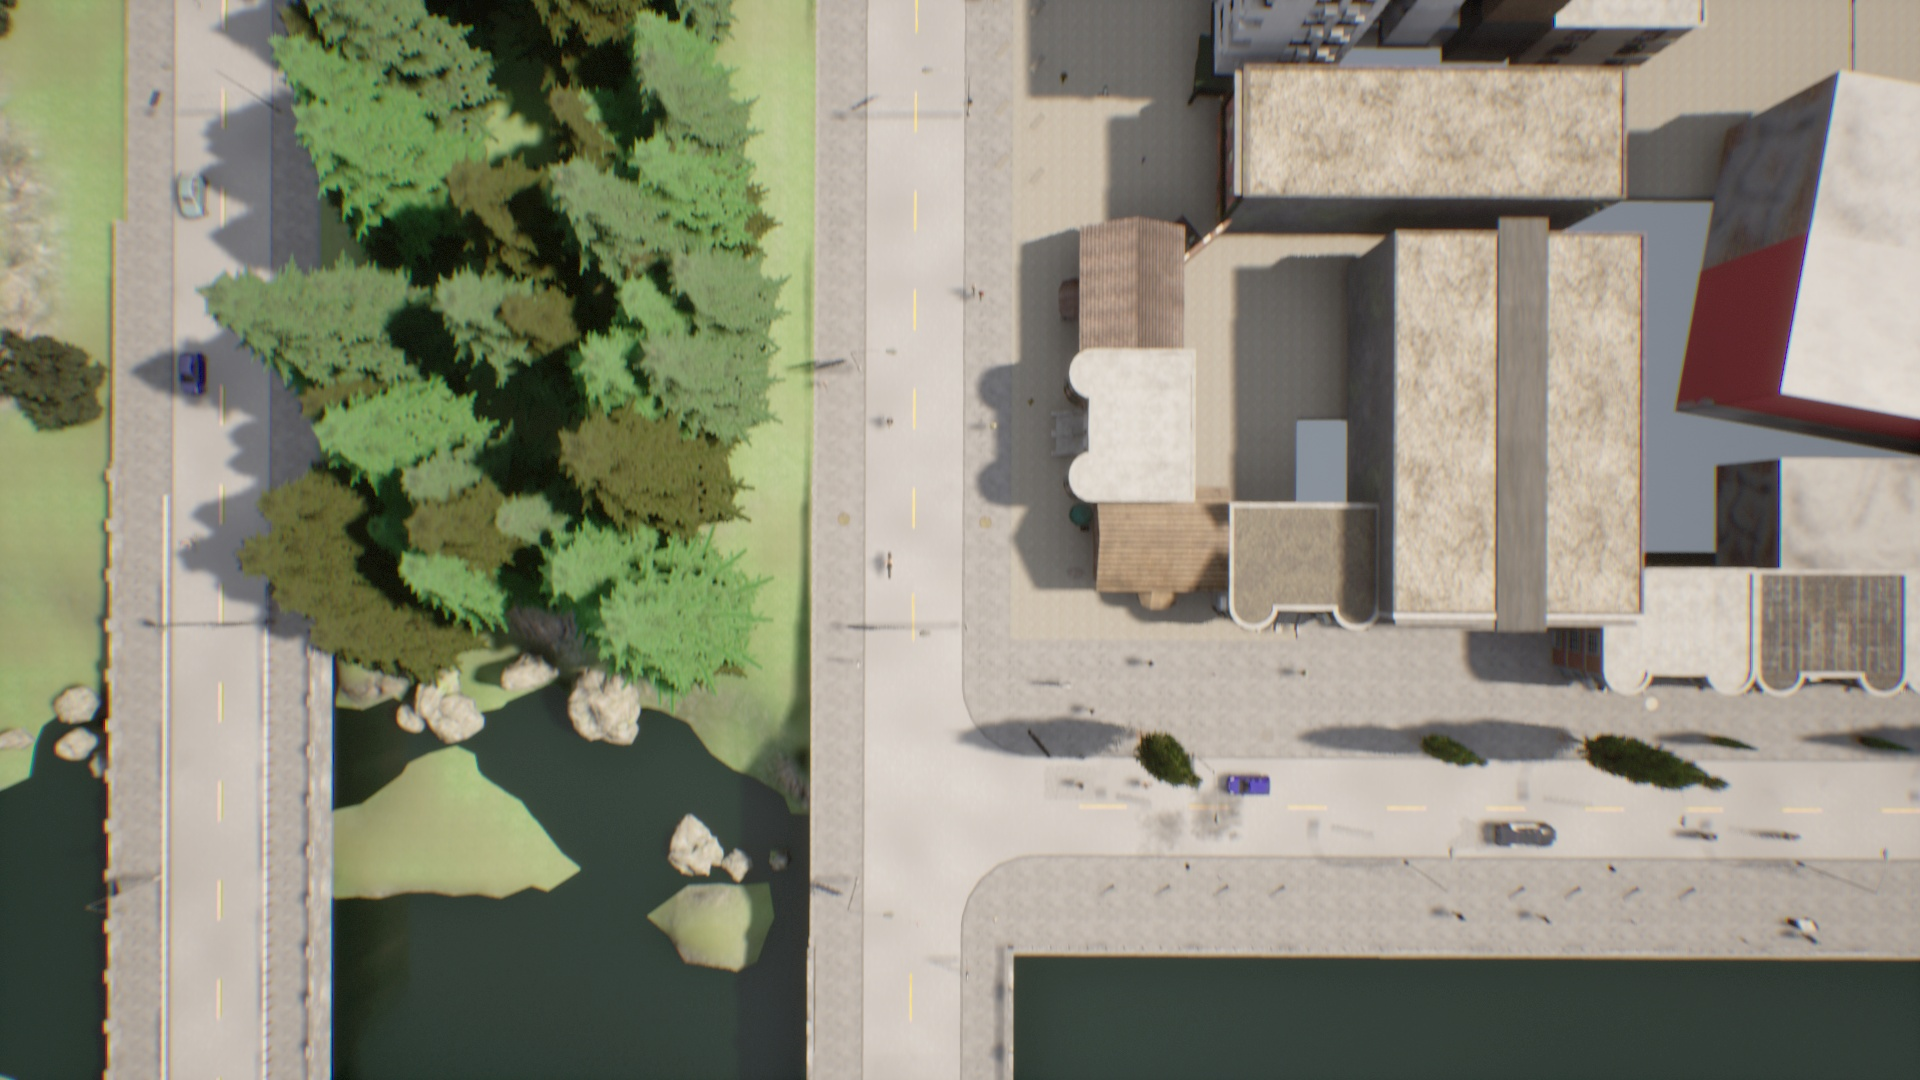Car: (1489, 820, 1557, 849), (177, 170, 208, 224), (1220, 771, 1274, 798), (182, 351, 208, 397)
Motorcycle: (1673, 829, 1729, 837), (1764, 831, 1807, 836)
